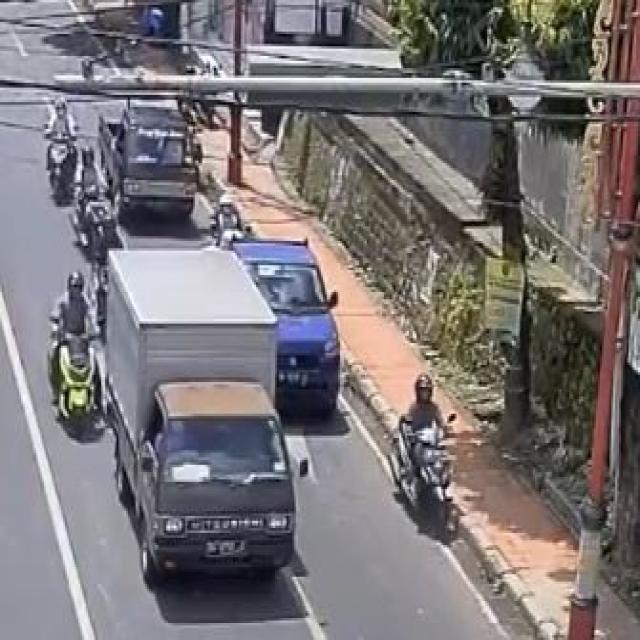car: (106, 265, 304, 599), (235, 240, 342, 416), (102, 102, 197, 223), (97, 143, 120, 228), (97, 120, 102, 143)
motorbike: (382, 373, 467, 537), (44, 273, 104, 432), (73, 145, 111, 250), (44, 83, 77, 203), (106, 253, 140, 367)
